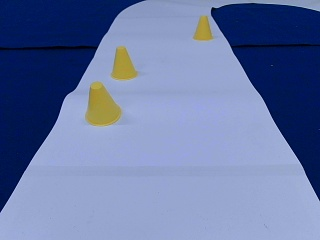cone: (84, 82, 121, 125), (110, 47, 137, 79), (193, 16, 212, 40)
